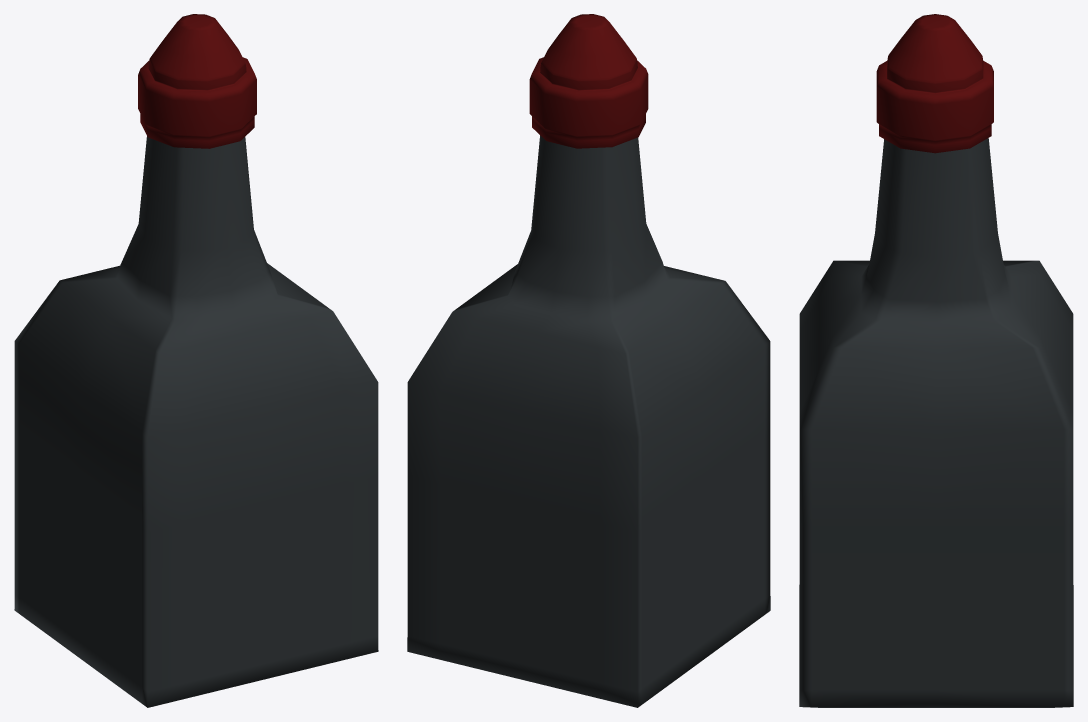
The model's file is Kitchen_set_Kitchen_set_Kitchen_set_Props_grp_Kitchen_set_North_grp_Kitchen_set_NorthWall_grp_Kitchen_set_SpiceShaker_2.obj.
3 views of the same model, side by side, from view 1: azimuth 30°, elevation 25°; view 2: azimuth 150°, elevation 25°; view 3: azimuth 270°, elevation 25° (orthographic). The views are drawn at different scales.
Parts seen in each view (by area): view 1: Kitchen_set_pCube641 NCCA_Export, NCCA_Export Kitchen_set_pCylinder563; view 2: Kitchen_set_pCube641 NCCA_Export, NCCA_Export Kitchen_set_pCylinder563; view 3: Kitchen_set_pCube641 NCCA_Export, NCCA_Export Kitchen_set_pCylinder563.
Boxes of the visible parts, box(x1,y1,x2,y2) form: Kitchen_set_pCube641 NCCA_Export: box(14, 136, 378, 707); NCCA_Export Kitchen_set_pCylinder563: box(138, 14, 256, 148); Kitchen_set_pCube641 NCCA_Export: box(407, 135, 770, 707); NCCA_Export Kitchen_set_pCylinder563: box(529, 14, 648, 148); Kitchen_set_pCube641 NCCA_Export: box(799, 138, 1073, 707); NCCA_Export Kitchen_set_pCylinder563: box(876, 14, 993, 153).
Bounding box in the file's own units: 0.3896 × 1 × 0.3896.
